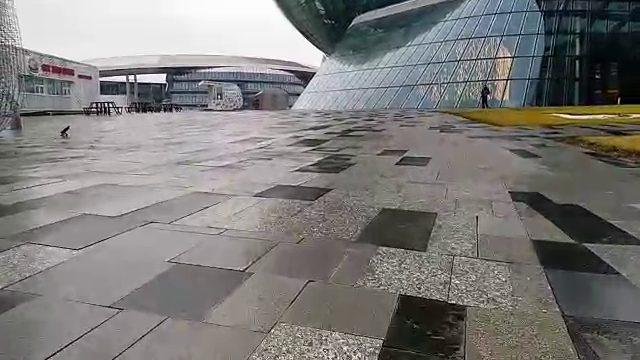kassa: (193, 76, 250, 115)
